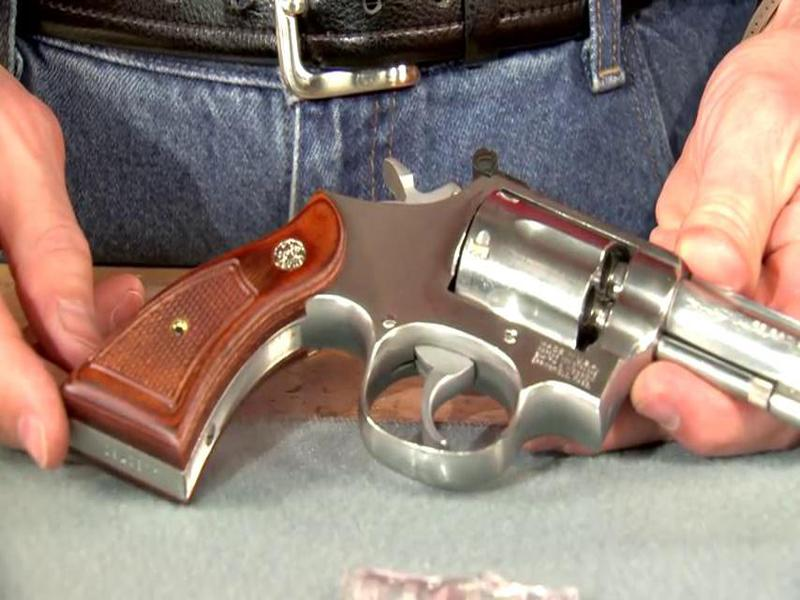Revolver: (81, 148, 800, 529)
